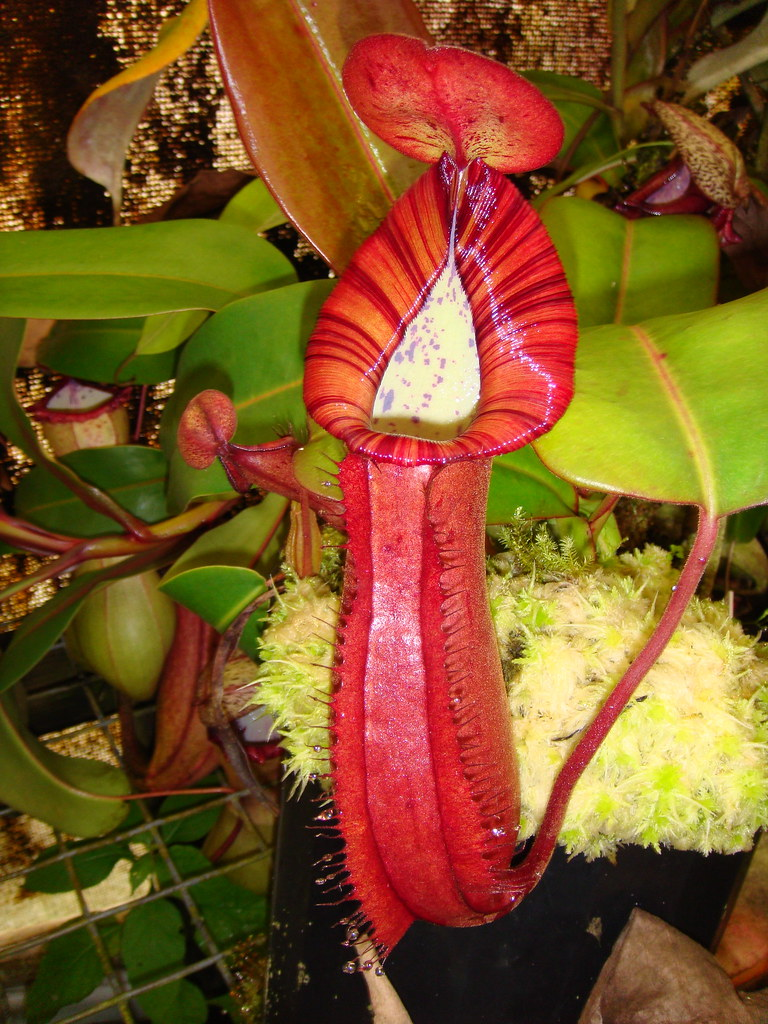truncata: (235, 24, 591, 969)
